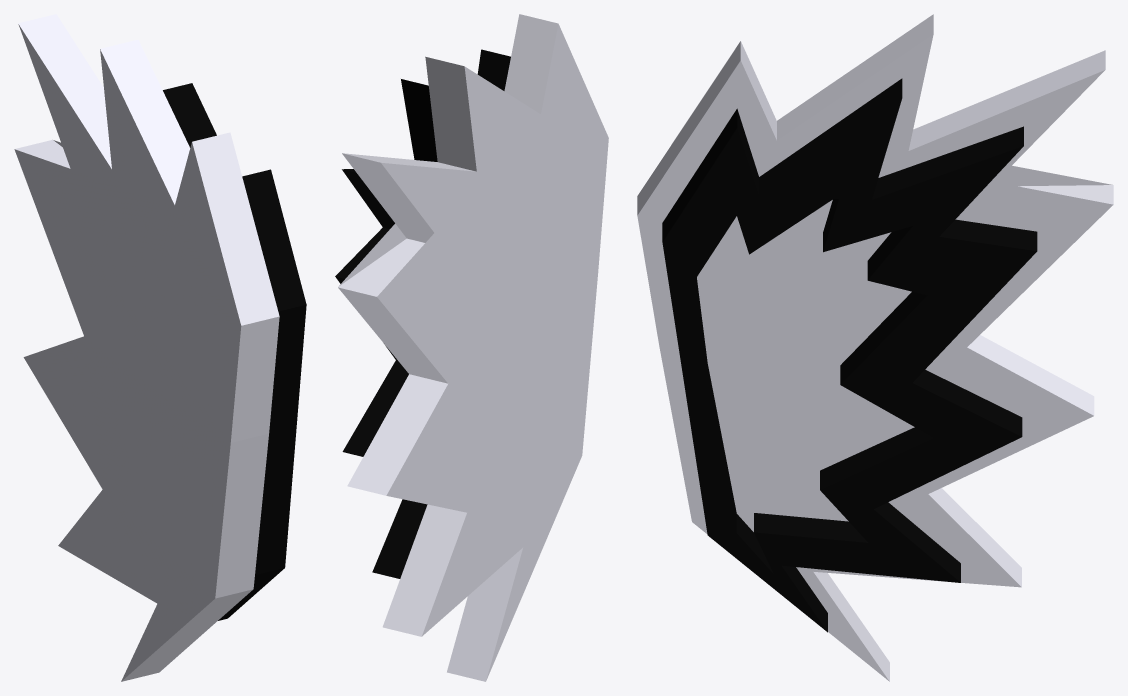
Rendered from decoration.obj.
3 renders of one model, left to right at view 1: azimuth 30°, elevation 25°; view 2: azimuth 150°, elevation 25°; view 3: azimuth 270°, elevation 25°, orthographic. The views are drawn at different scales.
Visible parts, largest first — view 1: 平面.002; view 2: 平面.002; view 3: 平面.002.
Part boxes in pixels (bbox=[...]): 平面.002: bbox=[14, 14, 306, 681]; 平面.002: bbox=[335, 14, 608, 681]; 平面.002: bbox=[637, 14, 1113, 681].
Size of the model in its own units: 0.3201 by 2.44 by 1.63.
Materials: 1 (1 with a texture image).
